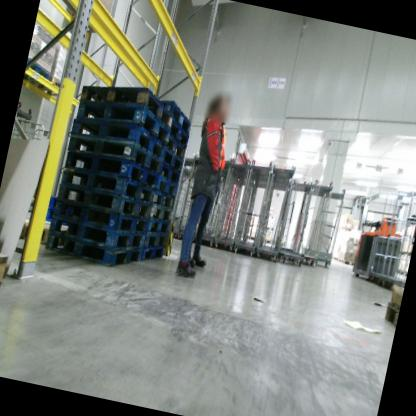pallet: (71, 70, 179, 144), (63, 105, 170, 169), (69, 87, 175, 147), (44, 209, 145, 265), (59, 141, 161, 196), (64, 124, 165, 177), (53, 176, 153, 228), (47, 196, 149, 242), (42, 232, 140, 279), (59, 162, 156, 207), (7, 201, 78, 254), (22, 55, 54, 93), (41, 191, 81, 217), (166, 103, 197, 134), (141, 229, 170, 258), (40, 206, 78, 228), (165, 116, 192, 146), (42, 71, 70, 99), (153, 173, 181, 201), (162, 132, 189, 160), (156, 162, 183, 189), (160, 144, 187, 170), (139, 243, 167, 268), (144, 216, 173, 240), (151, 189, 178, 212), (149, 203, 175, 225), (381, 298, 401, 326), (0, 250, 11, 298), (336, 257, 354, 267), (332, 255, 338, 261)
pallet_truck: (349, 206, 410, 289)
